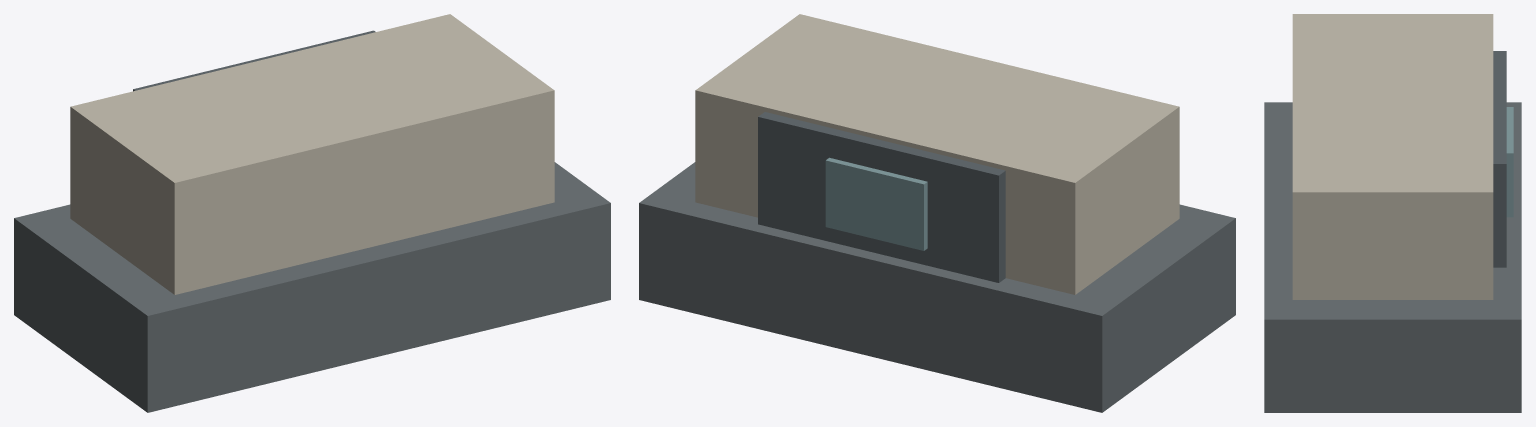
File: iz3_school_cafetable_01.glb
The picture shows the model from 3 angles, left to right: view 1: azimuth 30°, elevation 25°; view 2: azimuth 150°, elevation 25°; view 3: azimuth 270°, elevation 25°; orthographic projection. The views are drawn at different scales.
Parts seen in each view (by area): view 1: cabinet, base, panel; view 2: base, cabinet, panel, display; view 3: cabinet, base, panel, display.
Boxes of the visible parts, box(x1,y1,x2,y2) form: cabinet: box(70, 14, 554, 294); base: box(14, 162, 610, 412); panel: box(133, 30, 375, 91); base: box(639, 162, 1235, 412); cabinet: box(695, 14, 1179, 294); panel: box(758, 112, 1005, 282); display: box(825, 157, 927, 250); cabinet: box(1292, 14, 1493, 299); base: box(1264, 102, 1521, 412); panel: box(1493, 51, 1506, 267); display: box(1506, 107, 1513, 217).
Size of the model in its own units: 1.6 by 0.69 by 0.8.
